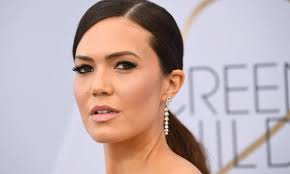person: (71, 1, 185, 145)
